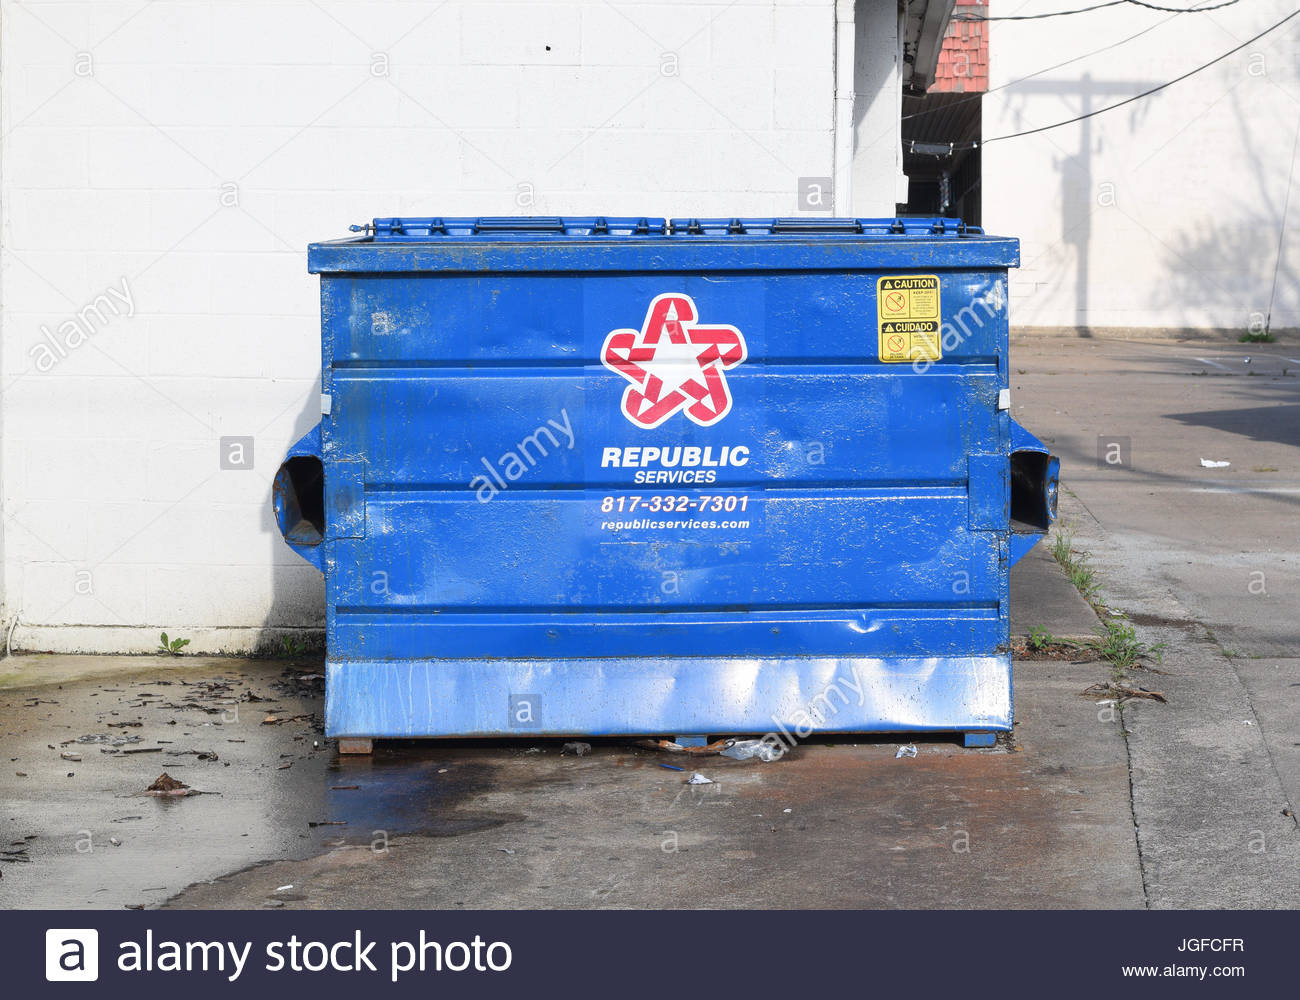Dumpster: (264, 203, 1073, 791)
